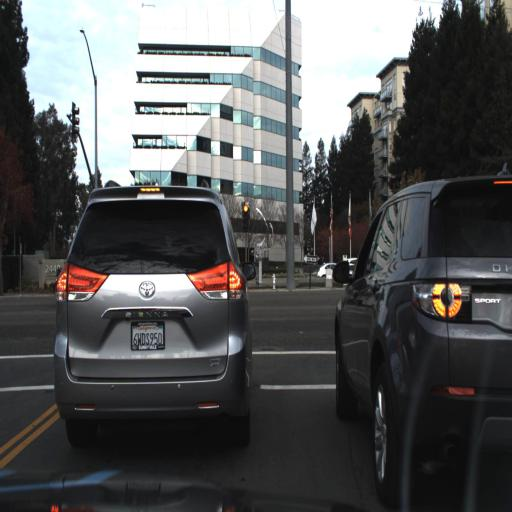car: (335, 176, 508, 507), (50, 186, 251, 456), (318, 263, 355, 285), (55, 259, 63, 300)
trafficLight: (239, 198, 251, 231)
